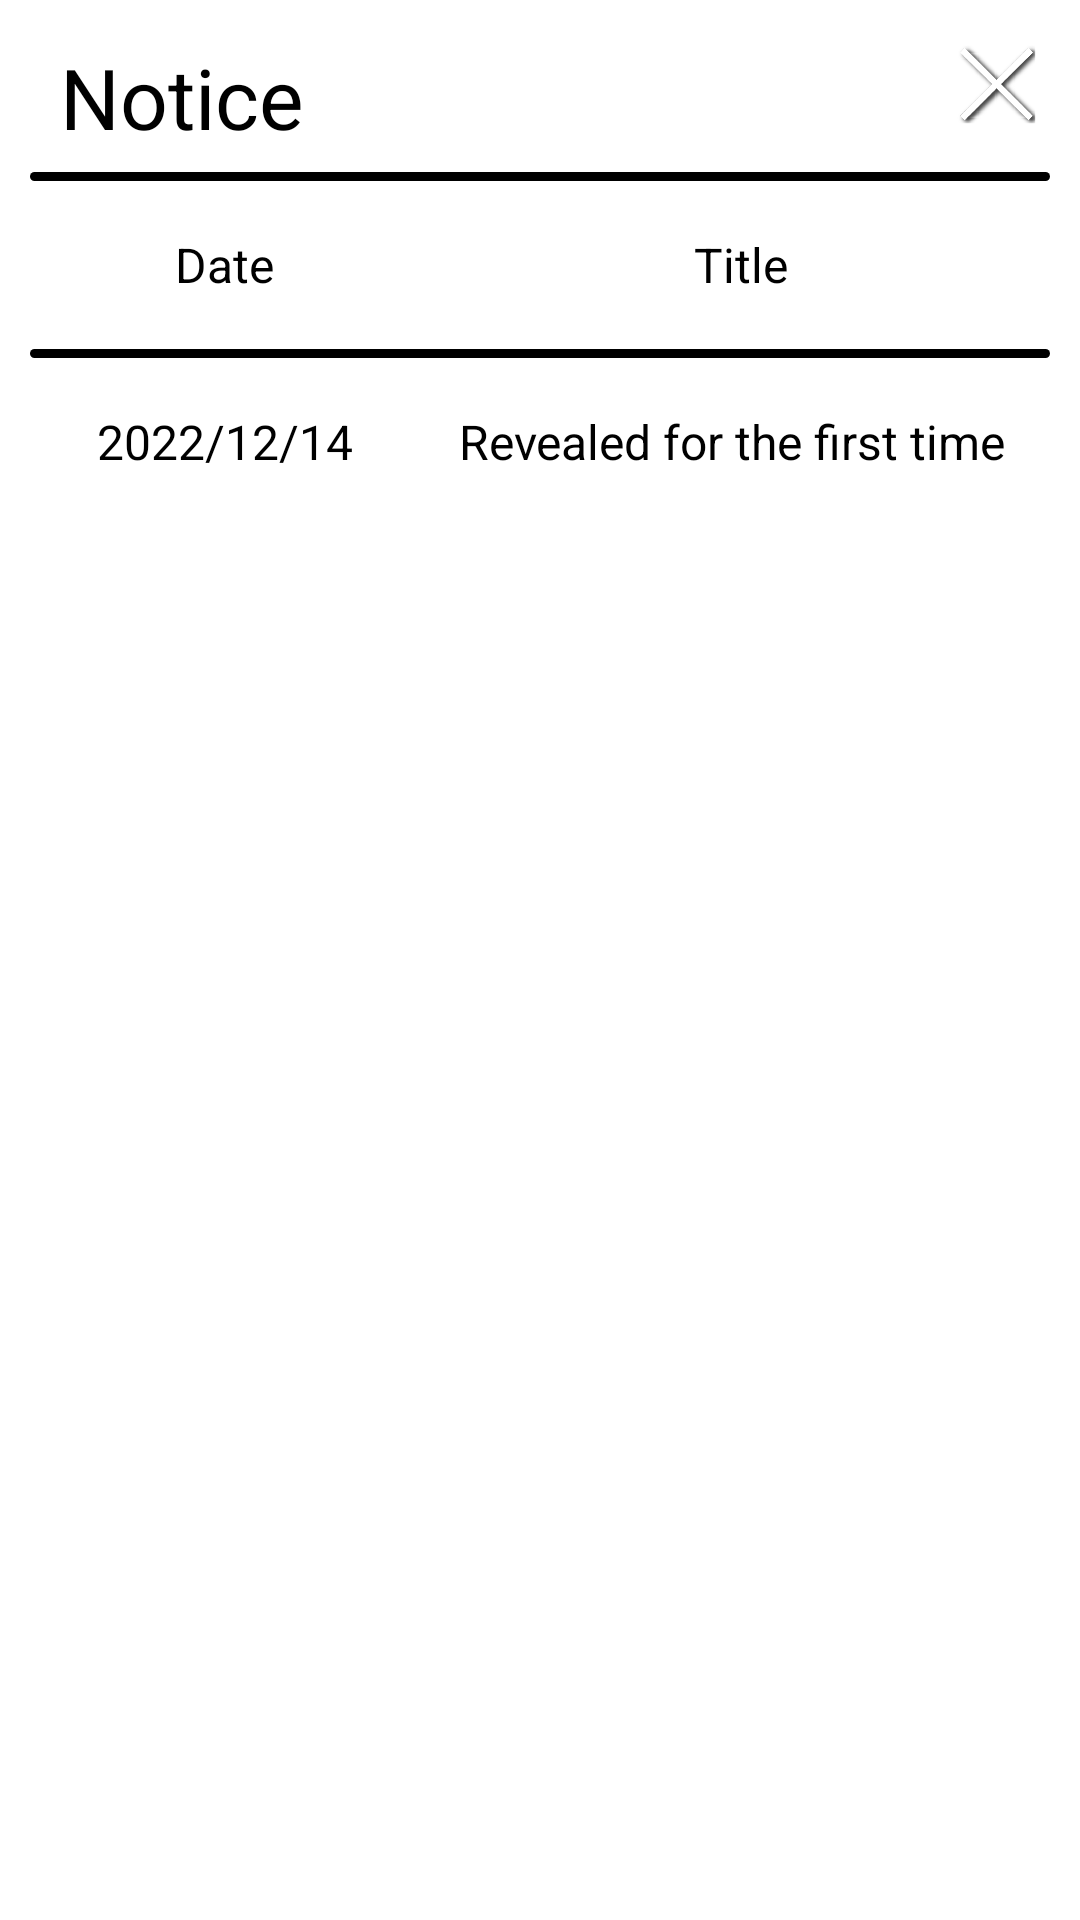

Named icons in this screenshot (1080w x 1920h) and their bounding boxes, (x1, y1, x2, y2):
goback: (960, 48, 1035, 123)
